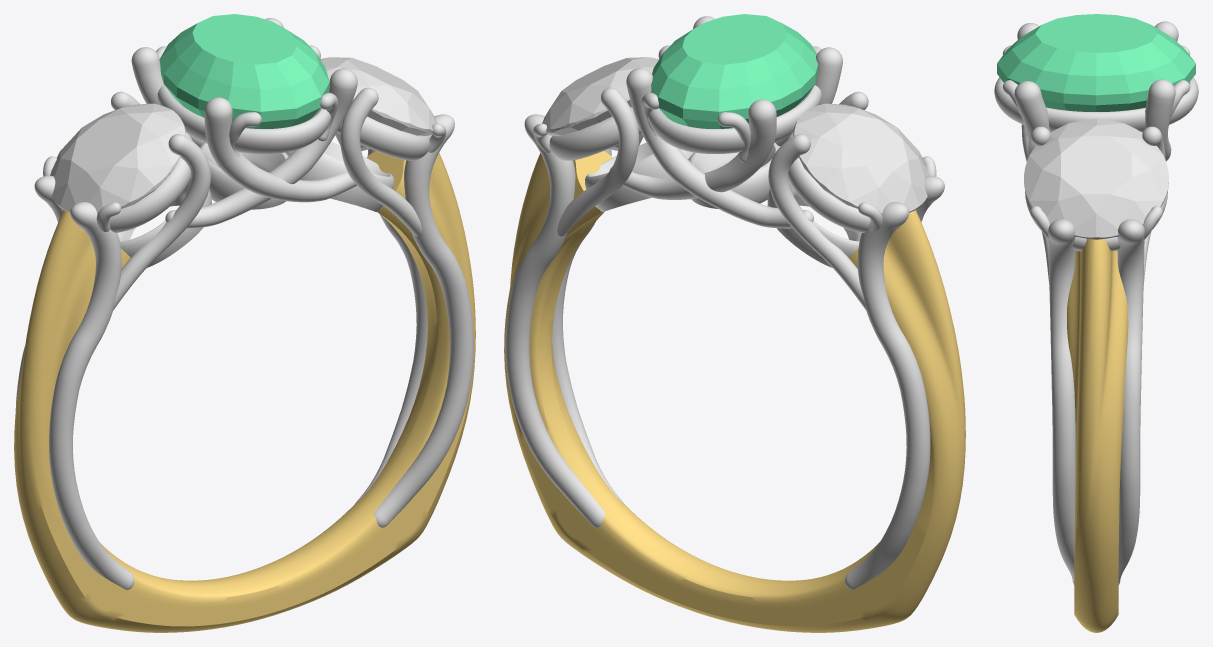
The model's file is BlaineV6PTYG_blender.glb.
3 renders of one model, left to right at view 1: azimuth 30°, elevation 25°; view 2: azimuth 150°, elevation 25°; view 3: azimuth 270°, elevation 25°, orthographic. The views are drawn at different scales.
Visible parts, largest first — view 1: V6 Blaine PT for 3d model, V5 Blaine YG for 3d model, Blaine garnet for 3d model, Blaine dia for 3d model.185, Blaine dia for 3d model.017, Blaine dia for 3d model.248; view 2: V6 Blaine PT for 3d model, V5 Blaine YG for 3d model, Blaine garnet for 3d model, Blaine dia for 3d model.185, Blaine dia for 3d model.017, Blaine dia for 3d model.262; view 3: V6 Blaine PT for 3d model, V5 Blaine YG for 3d model, Blaine garnet for 3d model, Blaine dia for 3d model.017, Blaine dia for 3d model.007, Blaine dia for 3d model.013, Blaine dia for 3d model.034, Blaine dia for 3d model.037, Blaine dia for 3d model.021, Blaine dia for 3d model.030, Blaine dia for 3d model.033, Blaine dia for 3d model.036.
Part boxes in pixels (x1,y1,x2,y2): V6 Blaine PT for 3d model: (15, 18, 473, 589); V5 Blaine YG for 3d model: (14, 151, 475, 632); Blaine garnet for 3d model: (159, 14, 329, 128); Blaine dia for 3d model.185: (71, 114, 141, 171); Blaine dia for 3d model.017: (347, 58, 417, 92); Blaine dia for 3d model.248: (68, 172, 99, 203); V6 Blaine PT for 3d model: (505, 16, 944, 589); V5 Blaine YG for 3d model: (504, 151, 965, 632); Blaine garnet for 3d model: (651, 14, 818, 128); Blaine dia for 3d model.185: (837, 114, 907, 171); Blaine dia for 3d model.017: (562, 58, 631, 92); Blaine dia for 3d model.262: (879, 172, 911, 203); V6 Blaine PT for 3d model: (994, 21, 1198, 584); V5 Blaine YG for 3d model: (1067, 238, 1128, 632); Blaine garnet for 3d model: (997, 14, 1195, 111); Blaine dia for 3d model.017: (1061, 136, 1131, 194); Blaine dia for 3d model.007: (1058, 194, 1096, 228); Blaine dia for 3d model.013: (1096, 194, 1134, 228); Blaine dia for 3d model.034: (1132, 169, 1162, 199); Blaine dia for 3d model.037: (1030, 169, 1060, 199); Blaine dia for 3d model.021: (1058, 123, 1095, 138); Blaine dia for 3d model.030: (1097, 123, 1134, 138); Blaine dia for 3d model.033: (1132, 177, 1162, 200); Blaine dia for 3d model.036: (1030, 177, 1060, 200).
Size of the model in its own units: 20.5 by 25.08 by 8.3.
